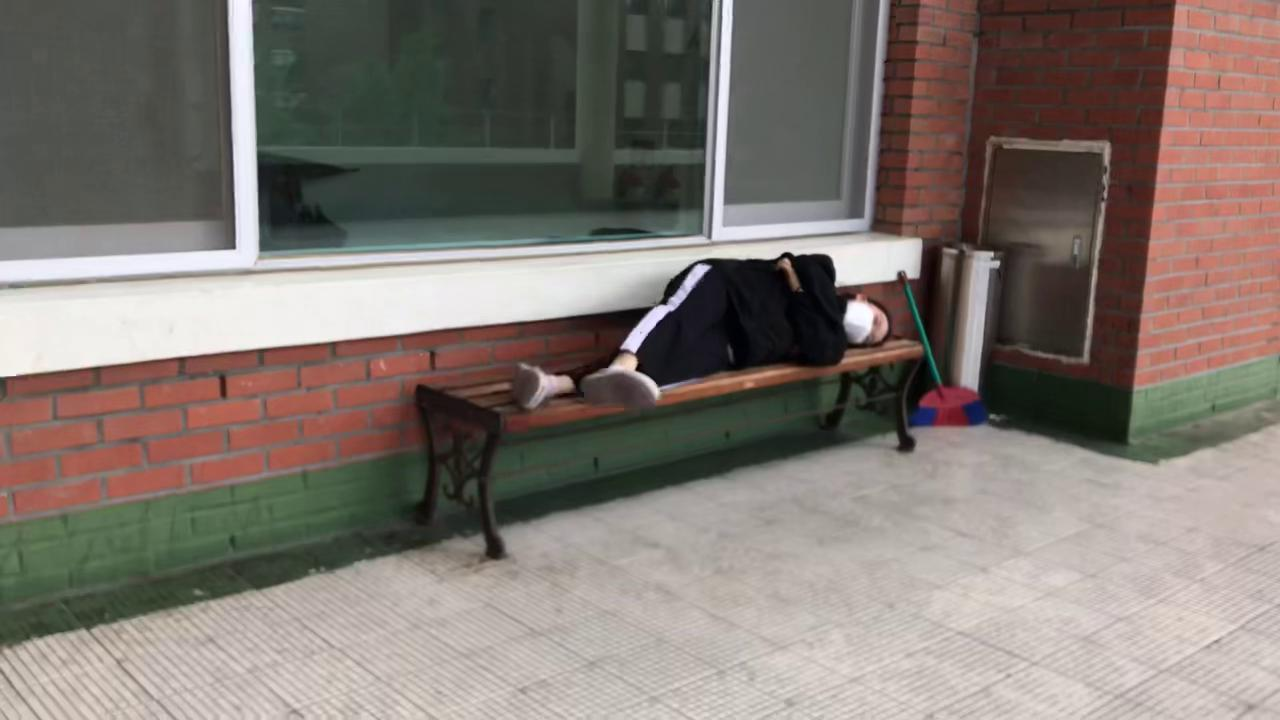sleep: (515, 248, 898, 407)
